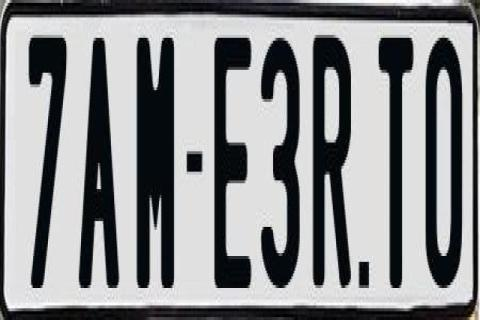0: (28, 32, 68, 288), (258, 32, 298, 288), (424, 32, 464, 288)
A: (76, 38, 120, 294)
E: (212, 35, 250, 291)
M: (135, 38, 173, 291)
R: (313, 29, 354, 299)
T: (378, 29, 417, 294)
